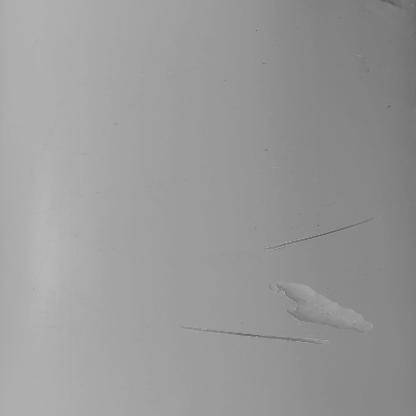sunshang: (274, 283, 373, 332), (263, 216, 372, 253), (179, 324, 330, 346)
